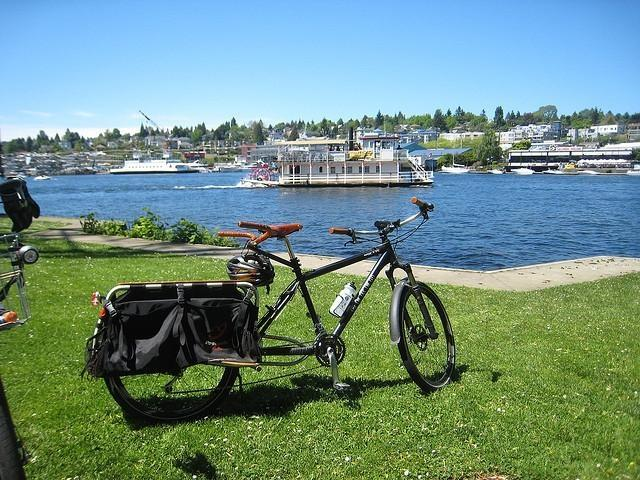bicycle: (100, 204, 460, 424), (0, 179, 40, 480)
